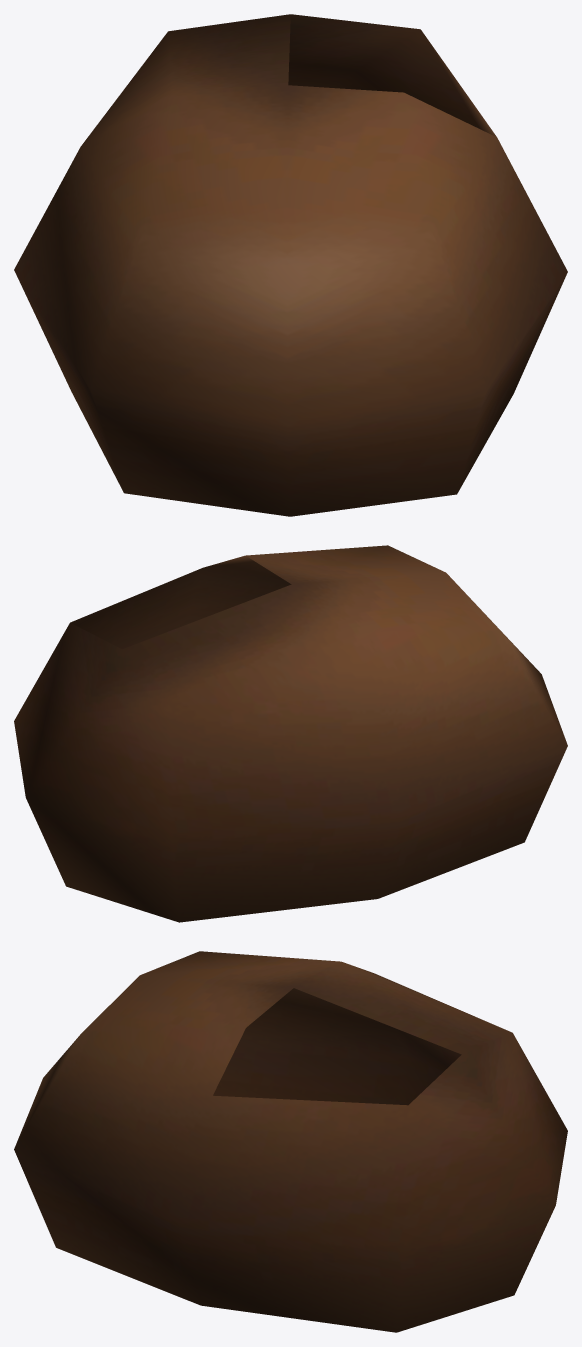
File: GoombaPieDer.obj
3 views of the same model, one above another, from view 1: azimuth 30°, elevation 25°; view 2: azimuth 150°, elevation 25°; view 3: azimuth 270°, elevation 25° (orthographic). The views are drawn at different scales.
Parts seen in each view (by area): view 1: polySurface18 polySurface13 Goomba:GombaMesh; view 2: polySurface18 polySurface13 Goomba:GombaMesh; view 3: polySurface18 polySurface13 Goomba:GombaMesh.
Boxes of the visible parts, x1,y1,x2,y2 form: polySurface18 polySurface13 Goomba:GombaMesh: (14,14,567,516); polySurface18 polySurface13 Goomba:GombaMesh: (14,545,567,922); polySurface18 polySurface13 Goomba:GombaMesh: (14,951,567,1332).
Size of the model in its own units: 0.2105 by 0.114 by 0.2283.
1 material, 1 textured.
